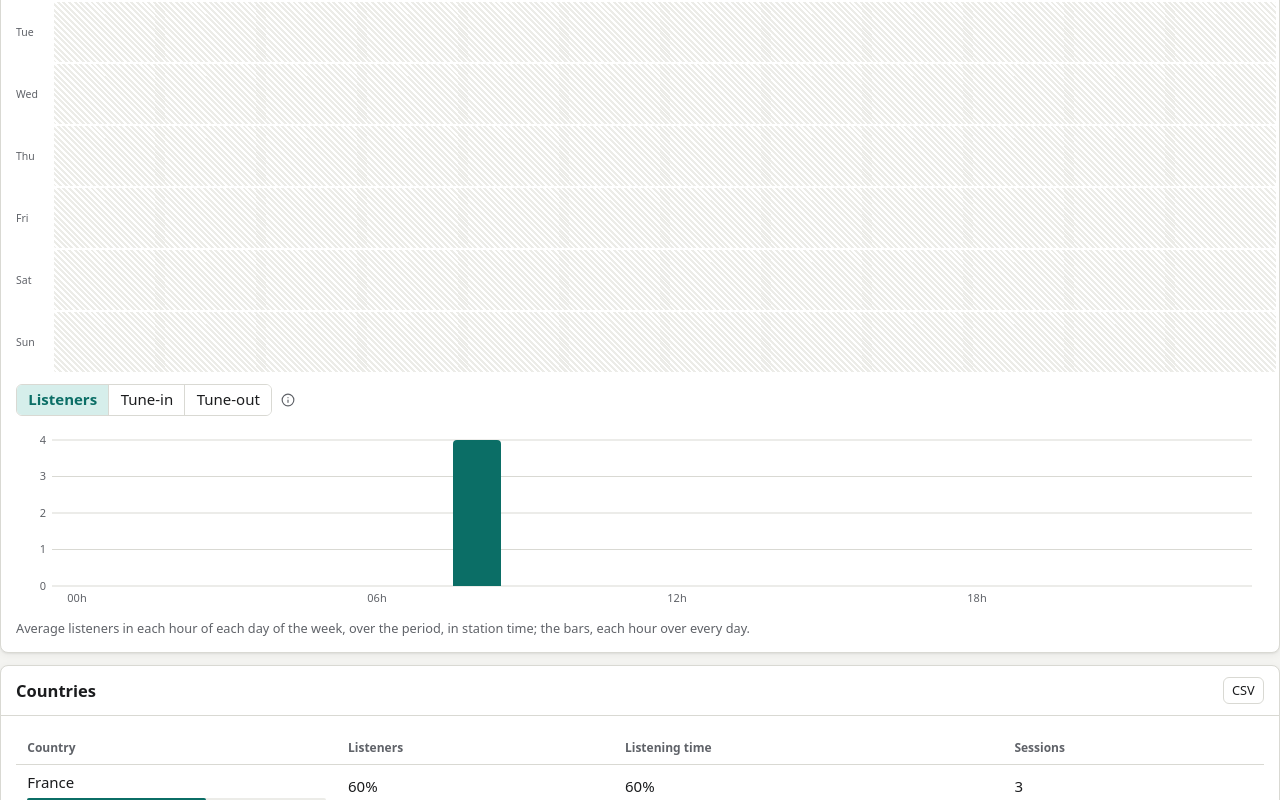
Test: Statistics › shows the audience figures against the previous period
(page scrolled)
# Tune-in and tune-out on the hours of the day.
Click the button "Tune-in". click: click(146, 400)
box: [108,385,184,416]
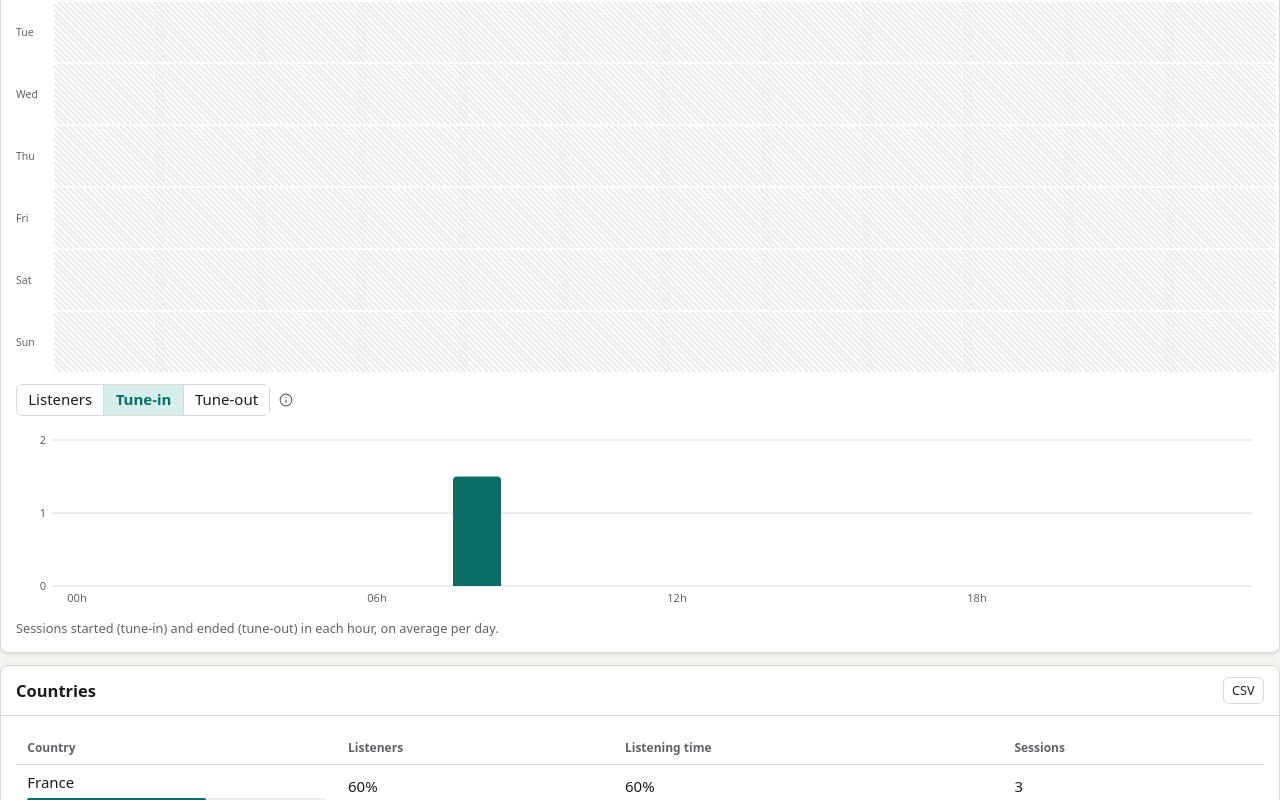
Now the text "Sessions started (tune-in) and ended (tune-out) in each hour, on average per day." is shown, box [16,619,499,637]
